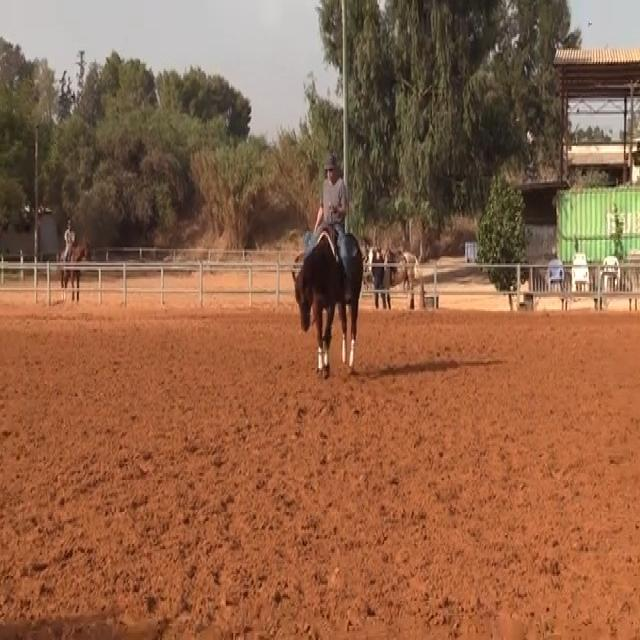horse: (290, 222, 365, 379)
